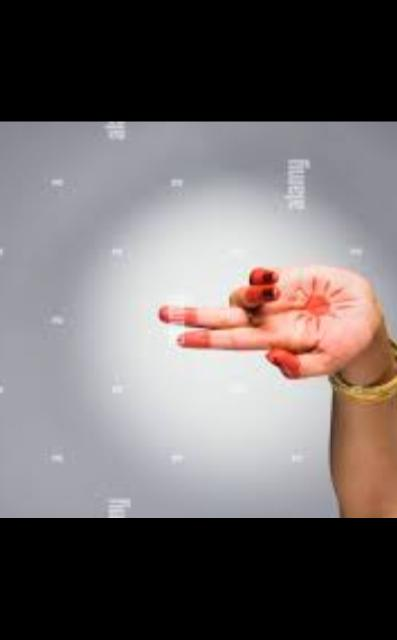ardhpataka: (74, 233, 397, 446)
